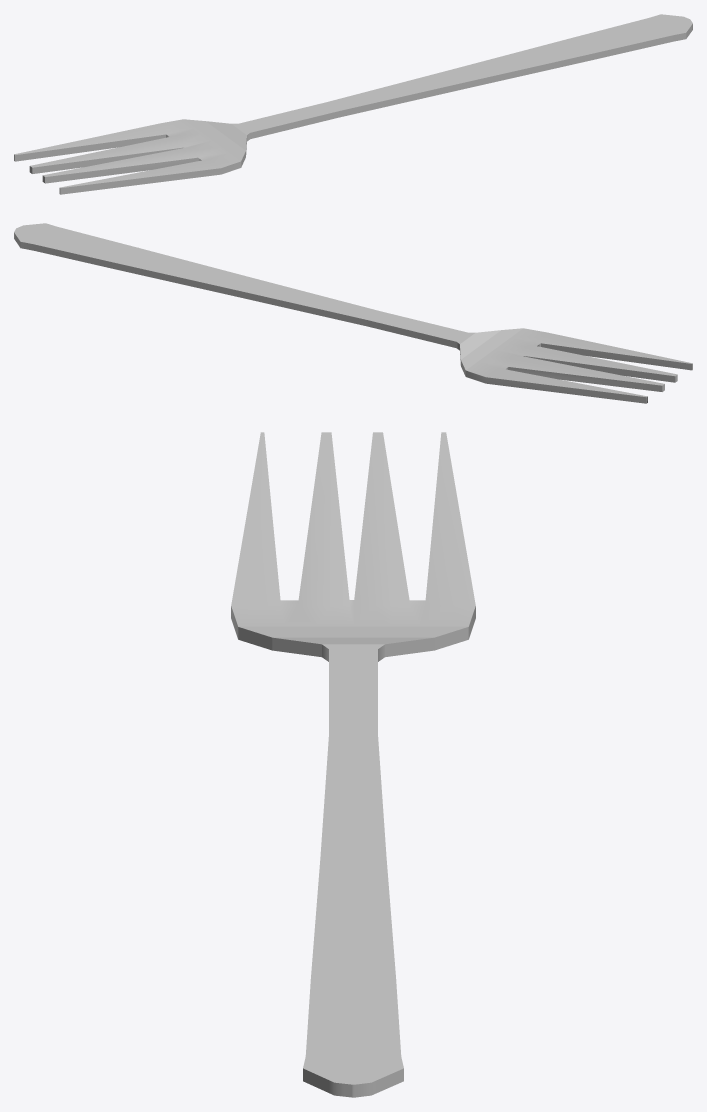
The model's file is Fork Full Model.fbx.
3 renders of one model, top to bottom at view 1: azimuth 30°, elevation 25°; view 2: azimuth 150°, elevation 25°; view 3: azimuth 270°, elevation 25°, orthographic. The views are drawn at different scales.
Visible parts, largest first — view 1: pCube1; view 2: pCube1; view 3: pCube1.
Boxes of the visible parts, <box> form: pCube1: <box>14,14,692,194</box>; pCube1: <box>14,223,692,403</box>; pCube1: <box>231,432,475,1097</box>.
Bounding box in the file's own units: 21.17 × 0.5788 × 3.43.
